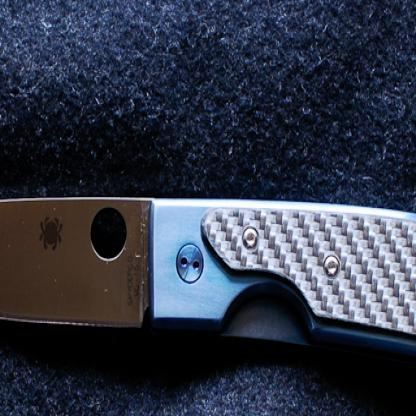knife: (0, 194, 415, 387)
